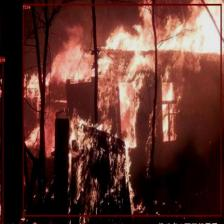fire: (22, 4, 221, 216), (0, 61, 3, 224)
